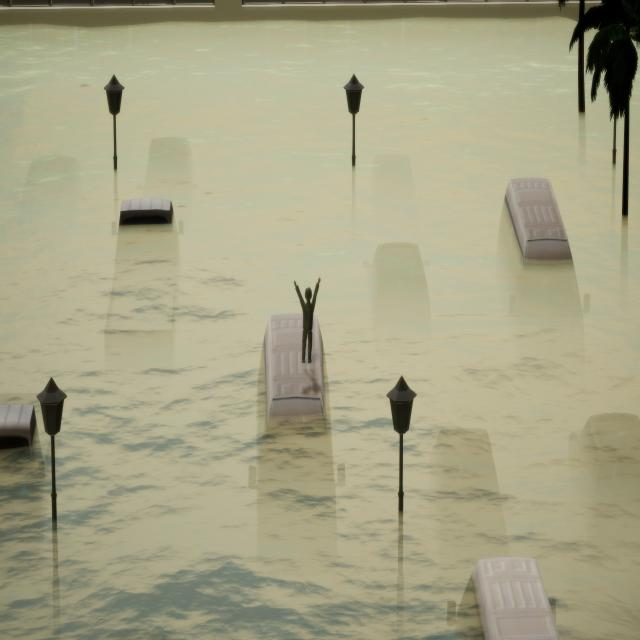Human: (290, 268, 325, 375)
